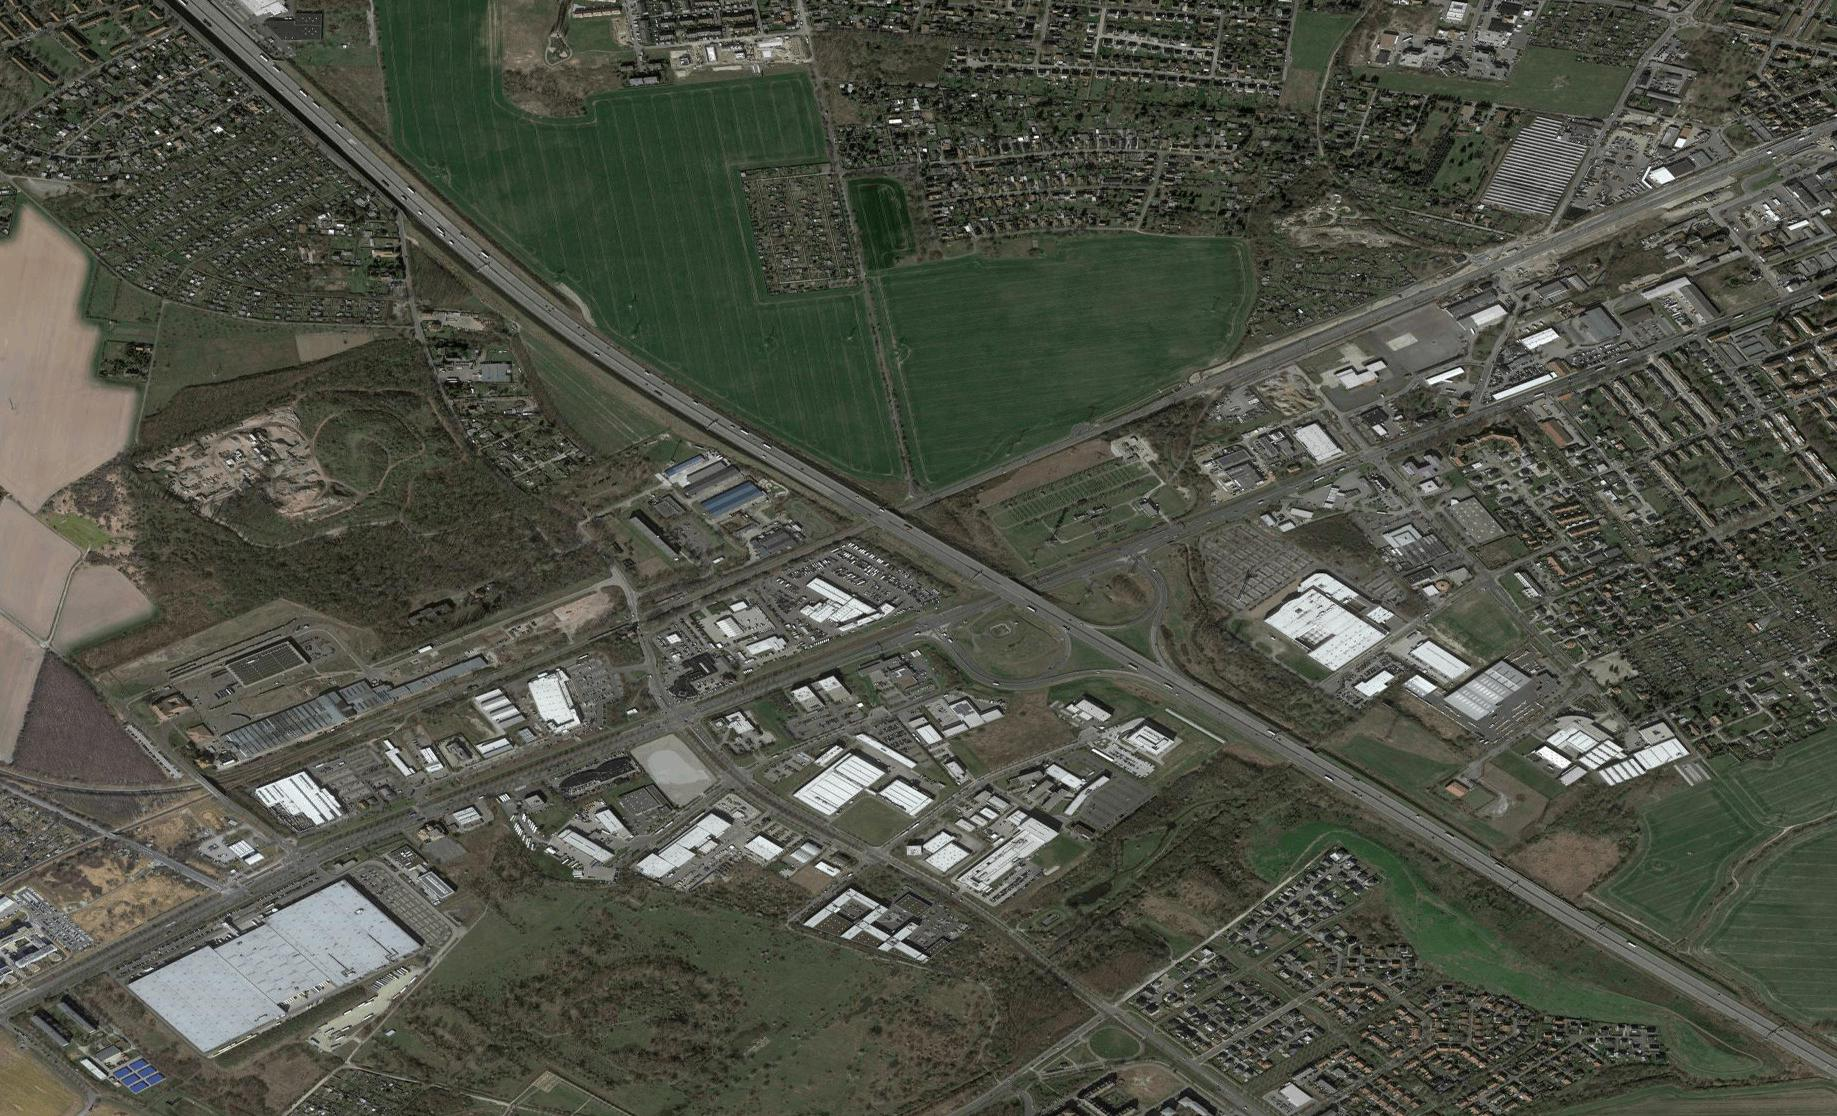industrial: (136, 574, 1157, 1073), (1256, 549, 1666, 793)
motorway: (695, 409, 934, 555), (1172, 681, 1404, 817), (937, 553, 1174, 683), (1396, 808, 1618, 946), (1620, 946, 1837, 1082), (499, 281, 695, 418), (329, 135, 505, 279), (182, 1, 336, 136)
